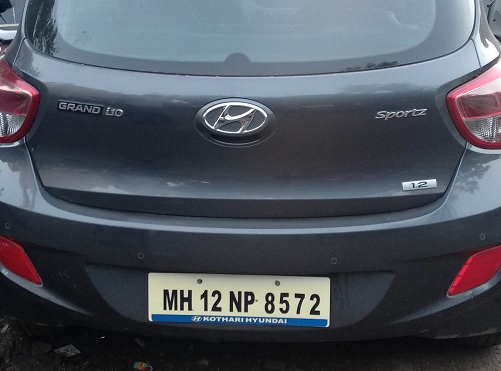licenseplate: (145, 268, 332, 333)
